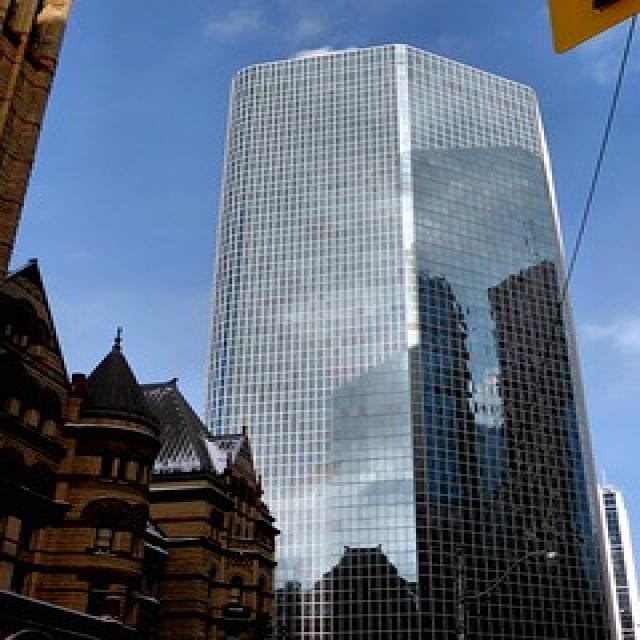Normal_building: (187, 38, 624, 640)
